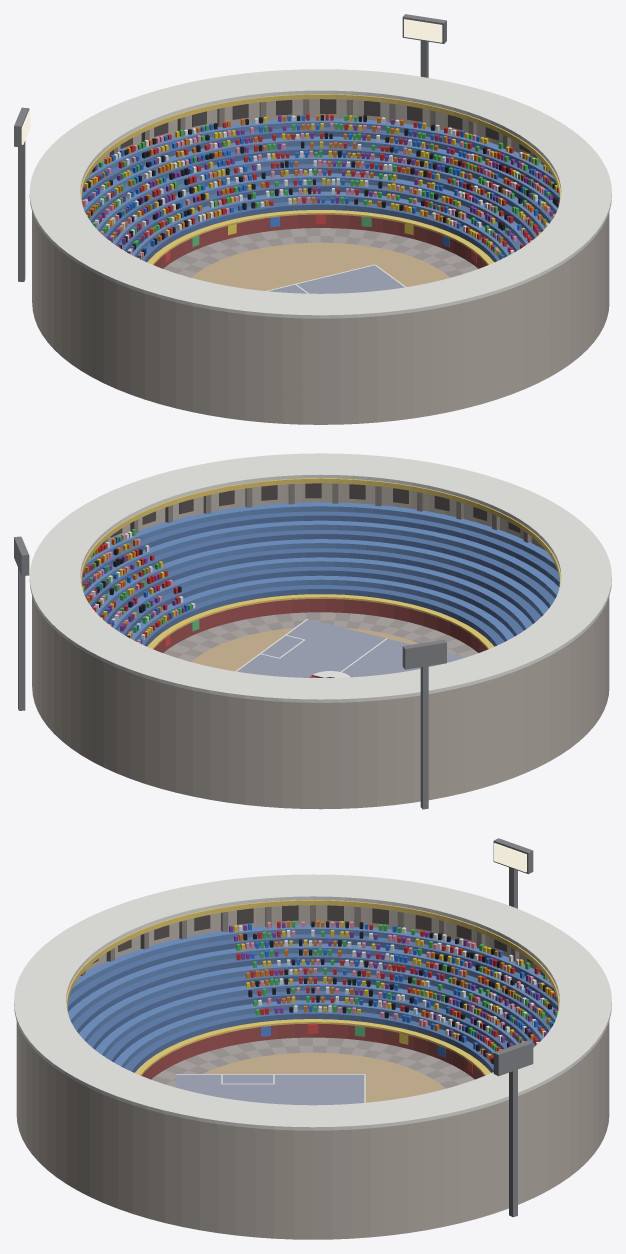
The model's file is stadium.glb.
The picture shows the model from 3 angles, top to bottom: view 1: azimuth 30°, elevation 25°; view 2: azimuth 150°, elevation 25°; view 3: azimuth 270°, elevation 25°; orthographic projection. The views are drawn at different scales.
Parts seen in each view (by area): view 1: OuterWall, Roof, Stands, Crowd, ArenaFloor, FloorRing, ArenaWall, RoofTrim, LightTowers, ArenaWallTrim, Field, Arches (+3 smaller); view 2: OuterWall, Stands, Roof, Field, FloorRing, ArenaWall, Crowd, LightTowers, RoofTrim, ArenaFloor, ArenaWallTrim, Arches (+1 smaller); view 3: OuterWall, Roof, Stands, Crowd, FloorRing, Field, ArenaFloor, ArenaWall, LightTowers, RoofTrim, ArenaWallTrim, Arches (+3 smaller).
Part boxes in pixels (x1,y1,x2,y2): OuterWall: (32, 99, 609, 424); Roof: (29, 69, 611, 318); Stands: (81, 118, 559, 262); Crowd: (82, 113, 559, 259); ArenaFloor: (191, 242, 449, 290); FloorRing: (163, 228, 477, 277); ArenaWall: (154, 214, 487, 268); RoofTrim: (80, 94, 561, 207); LightTowers: (14, 14, 446, 281); ArenaWallTrim: (147, 210, 494, 264); Field: (268, 265, 404, 293); Arches: (120, 99, 530, 153); OuterWall: (32, 483, 609, 809); Stands: (81, 502, 559, 646); Roof: (29, 453, 611, 702); Field: (237, 619, 464, 677); FloorRing: (163, 612, 478, 661); ArenaWall: (154, 599, 487, 652); Crowd: (82, 529, 195, 643); LightTowers: (14, 536, 446, 809); RoofTrim: (80, 478, 561, 591); ArenaFloor: (192, 627, 418, 671); ArenaWallTrim: (147, 594, 494, 649); Arches: (110, 483, 520, 537); OuterWall: (16, 905, 609, 1239); Roof: (14, 874, 611, 1130); Stands: (67, 924, 558, 1072); Crowd: (229, 920, 558, 1064); FloorRing: (151, 1037, 474, 1088); Field: (176, 1074, 364, 1105); ArenaFloor: (203, 1052, 445, 1102); ArenaWall: (141, 1023, 484, 1079); LightTowers: (493, 838, 533, 1217); RoofTrim: (66, 900, 559, 1015); ArenaWallTrim: (135, 1019, 490, 1075); Arches: (92, 905, 533, 963).
Bounding box in the file's own units: 92 × 28.5 × 92.
